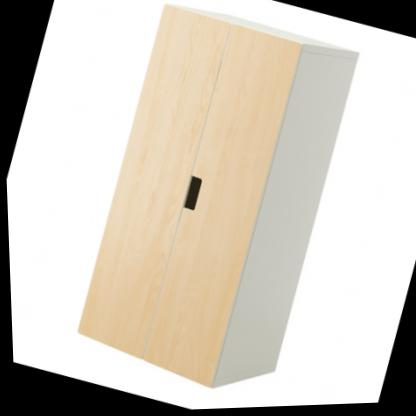Cabinet: (51, 0, 375, 415)
